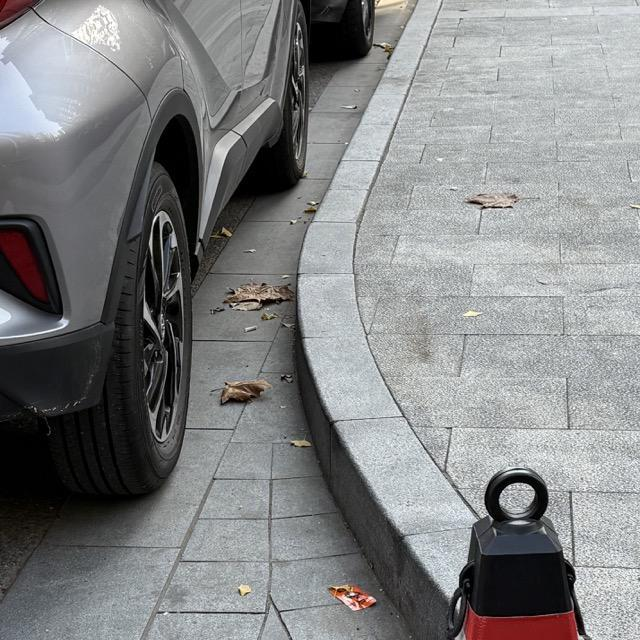curb: (297, 0, 475, 595)
